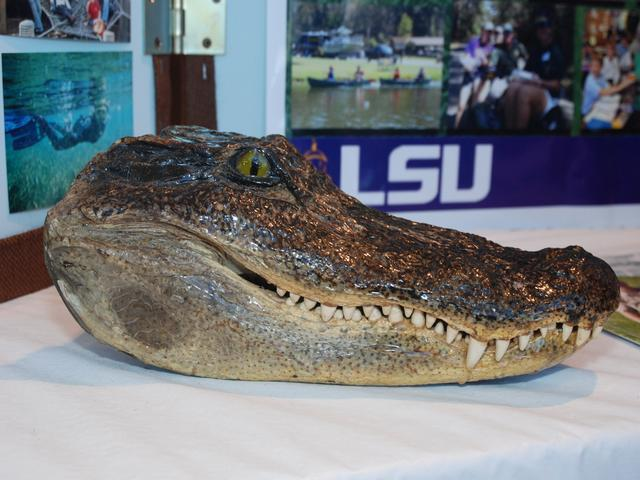crocodile: (35, 82, 628, 418)
